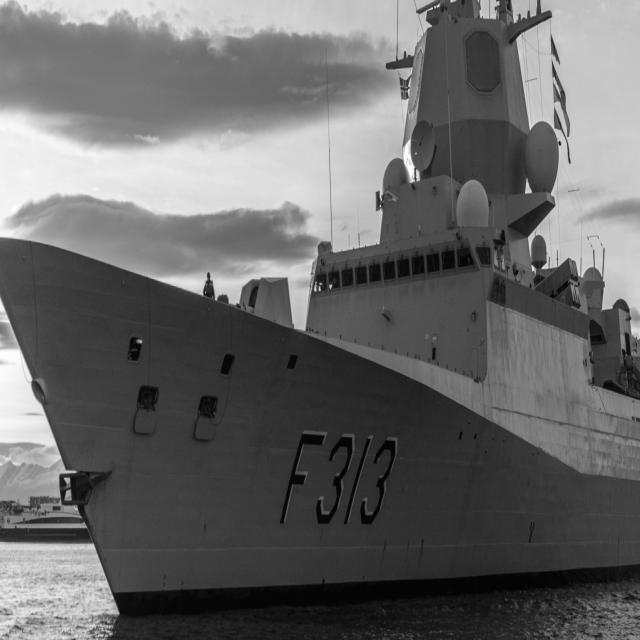Fragata: (1, 1, 532, 633)
